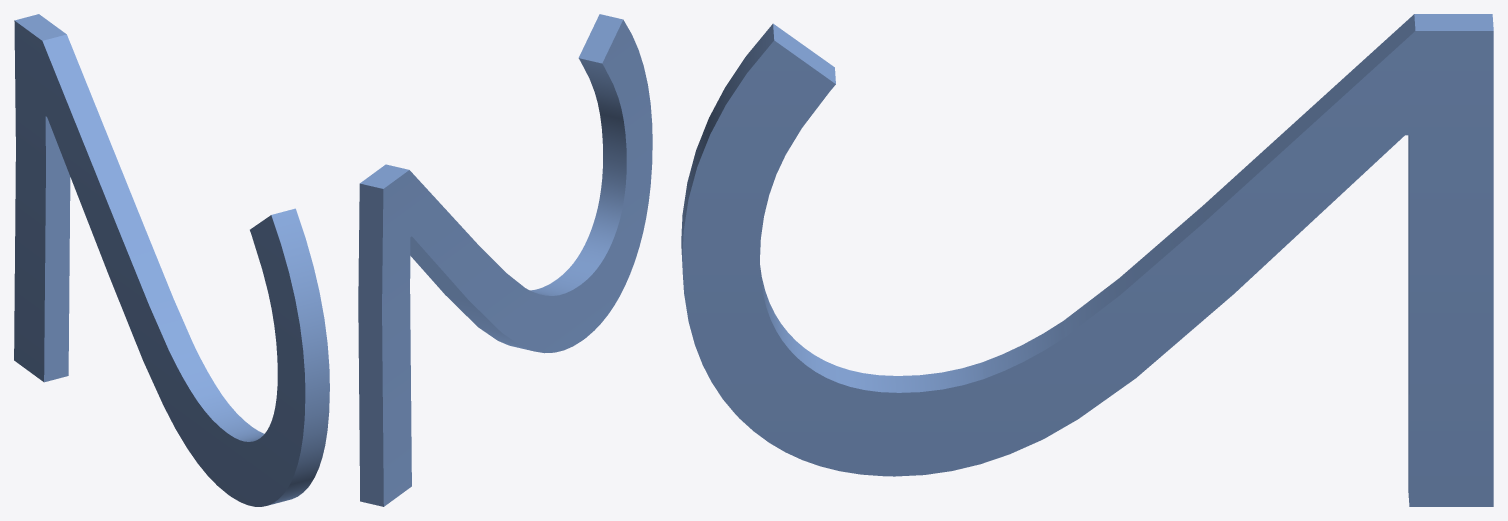
File: New_Number_2.gltf
3 renders of one model, left to right at view 1: azimuth 30°, elevation 25°; view 2: azimuth 150°, elevation 25°; view 3: azimuth 270°, elevation 25°, orthographic. The views are drawn at different scales.
Parts seen in each view (by area): view 1: Part 263; view 2: Part 263; view 3: Part 263.
Part boxes in pixels (left/top/right/bottom): Part 263: left=14, top=14, right=329, bottom=506; Part 263: left=358, top=14, right=652, bottom=506; Part 263: left=681, top=14, right=1493, bottom=506.
Size of the model in its own units: 0.000274 by 0.00331 by 0.00512.
